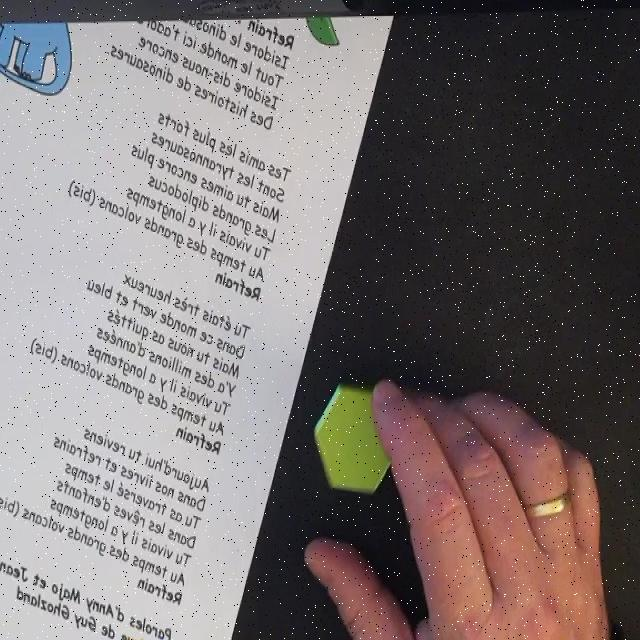hexagon: (312, 383, 398, 492)
